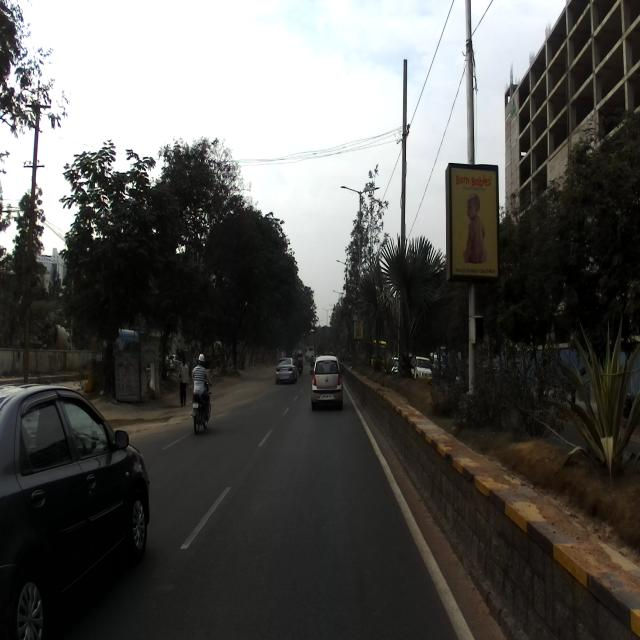car ahead at: (0, 374, 154, 640), (309, 352, 345, 406)
